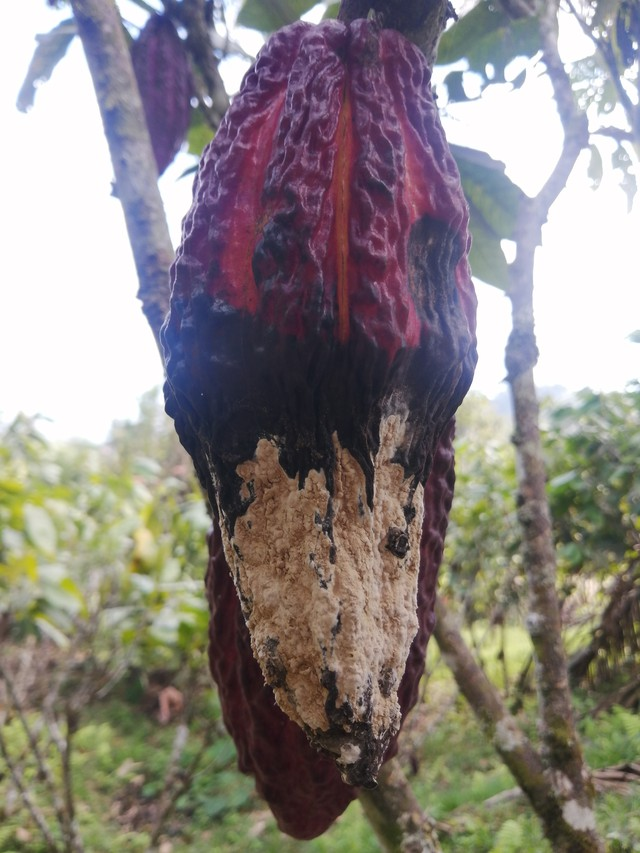moniliophthora roreri: (138, 11, 498, 802)
